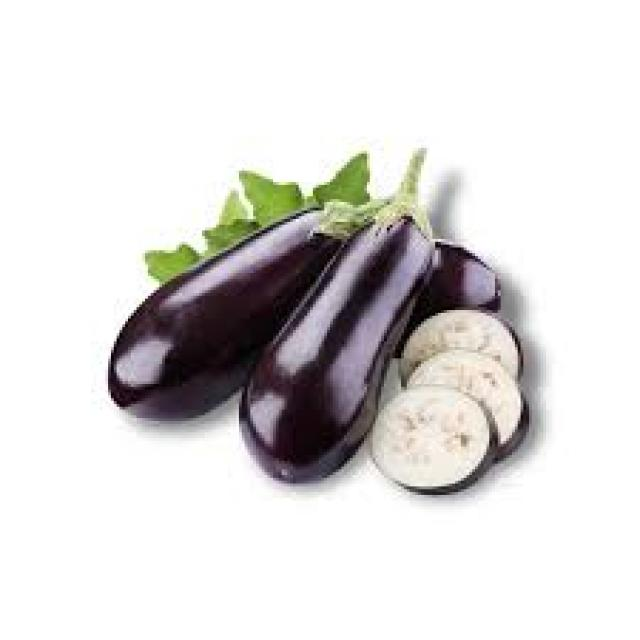eggplant: (108, 197, 356, 416), (239, 193, 427, 481)
